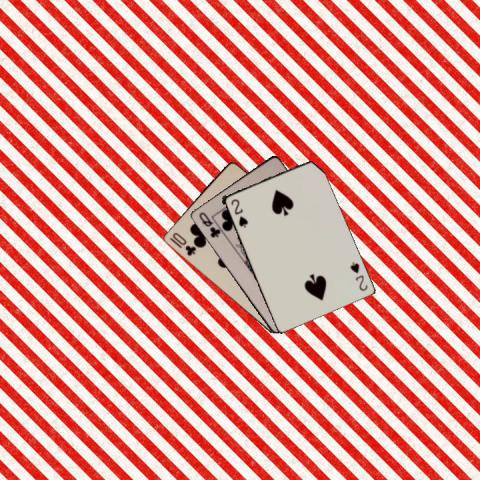10c: (167, 230, 197, 258)
2s: (227, 196, 249, 229), (346, 259, 368, 292)
Qc: (196, 209, 222, 239)
